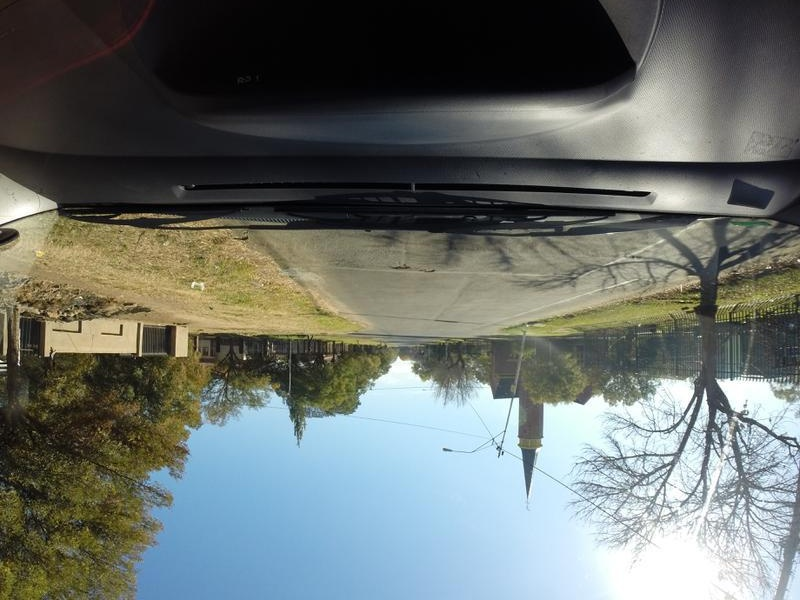pothole: (382, 251, 440, 279)
